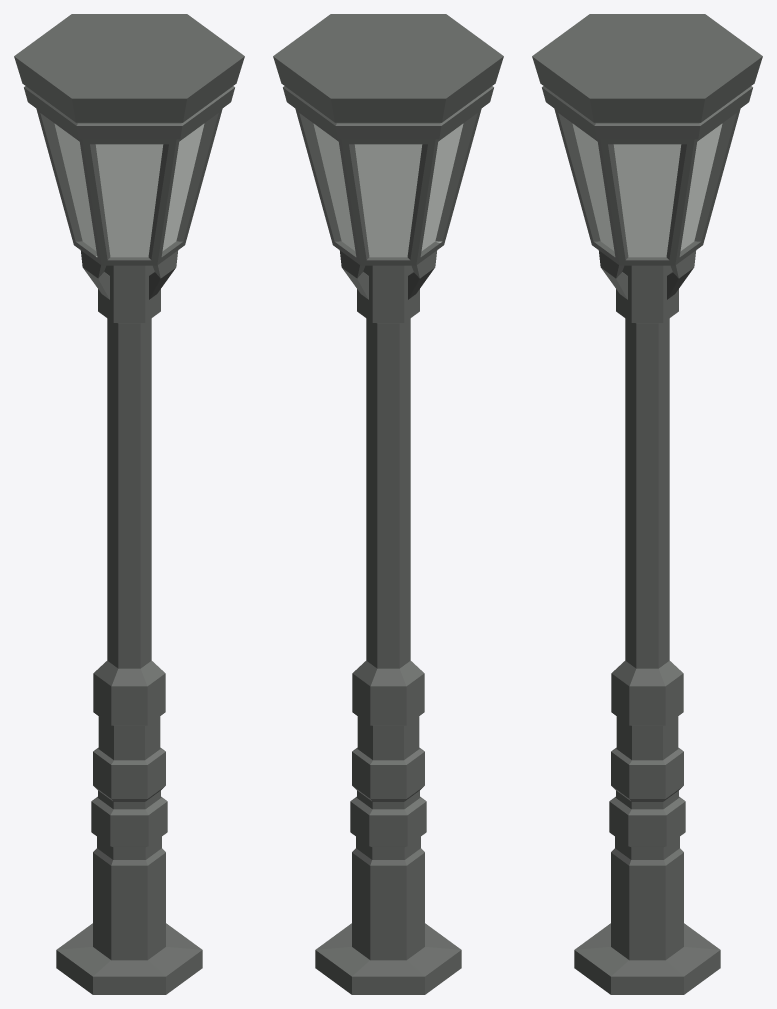
The model's file is farola.glb.
3 renders of one model, left to right at view 1: azimuth 30°, elevation 25°; view 2: azimuth 150°, elevation 25°; view 3: azimuth 270°, elevation 25°, orthographic.
Parts seen in each view (by area): view 1: farola_2; view 2: farola_2; view 3: farola_2.
Boxes of the visible parts, x1,y1,x2,y2 form: farola_2: [14, 14, 244, 994]; farola_2: [273, 14, 503, 994]; farola_2: [532, 14, 762, 994].
Bounding box in the file's own units: 0.6328 × 3.18 × 0.7307.
Materials: 1 (1 with a texture image).
